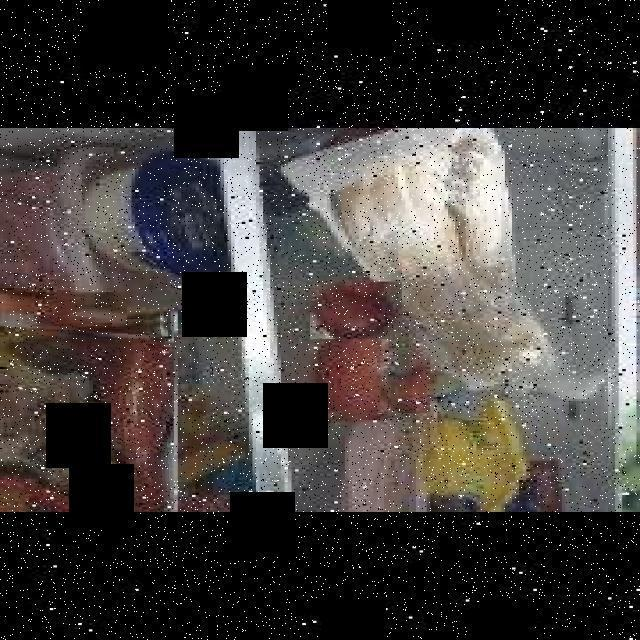carrot: (0, 292, 128, 326)
tomato: (304, 332, 396, 421), (310, 282, 398, 339), (377, 357, 427, 413)
tortillas: (0, 311, 174, 512)
